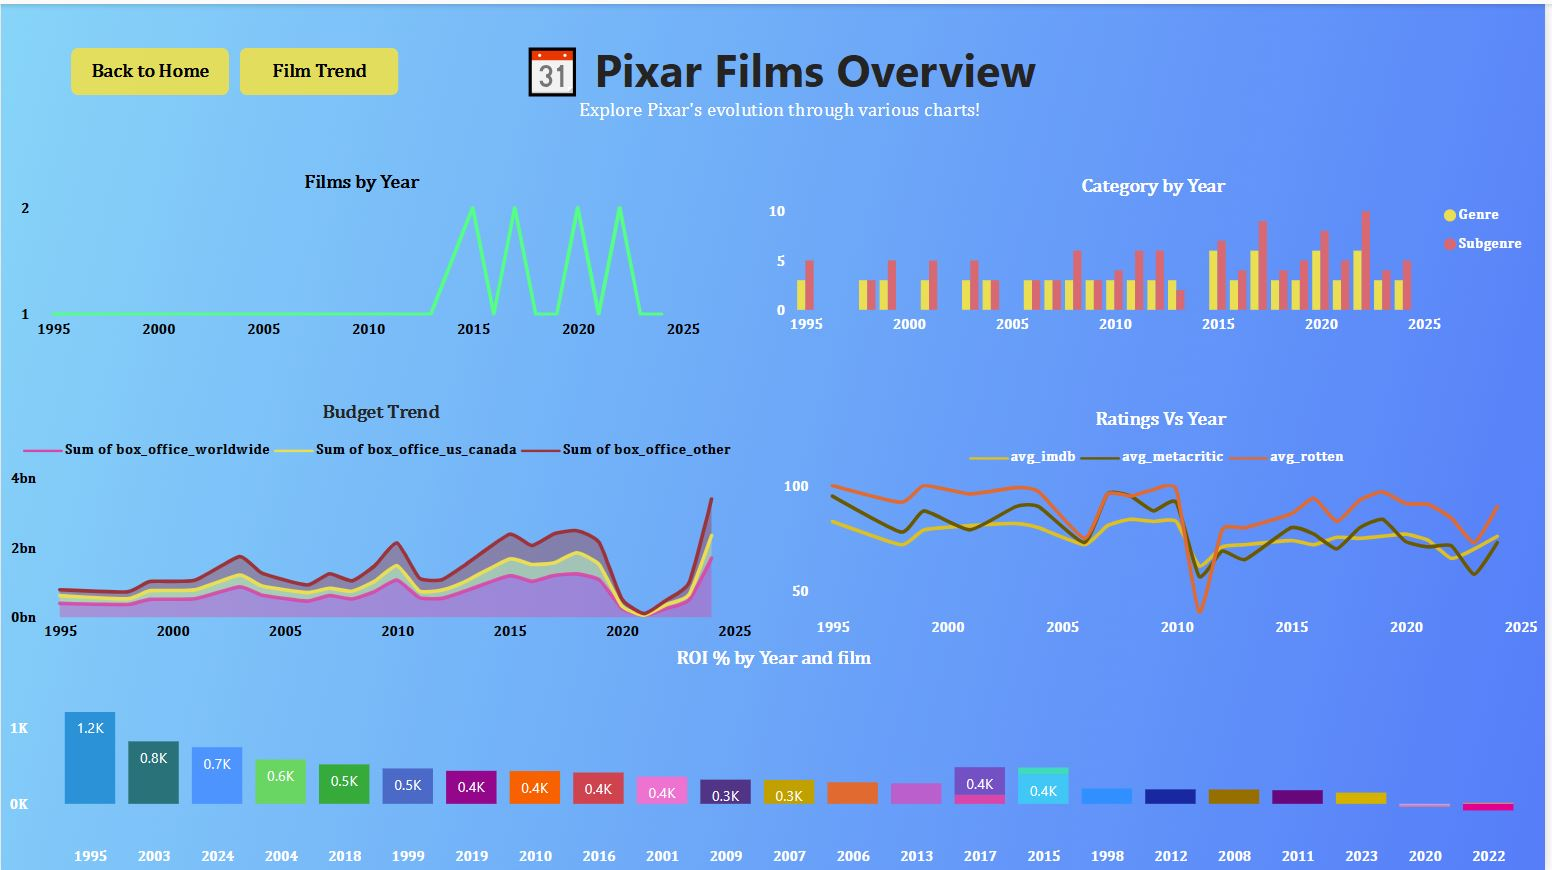

The dashboard page shown, as its layout file describes it:
{"tool":"powerbi","page":{"name":"Year Trend","canvas":[1280,720],"ordinal":1},"visuals":[{"type":"textbox","box":[10.2,23.7,1270.3,82.4],"z":0},{"type":"lineChart","title":"Films by Year","fields":{"Y":["Count(pixar_films.film)"],"Category":["pixar_films.Year"]},"box":[10.2,138.9,575.9,144.5],"z":1000},{"type":"clusteredColumnChart","title":"Category by Year","fields":{"Category":["pixar_films.Year"],"Y":["CountNonNull(genres.value)"],"Series":["genres.category"]},"box":[628.9,142.3,651.5,137.8],"z":2000},{"type":"stackedAreaChart","title":"Budget Trend","fields":{"Category":["pixar_films.Year"],"Y":["Sum(box_office.box_office_worldwide)","Sum(box_office.box_office_us_canada)","Sum(box_office.box_office_other)"]},"box":[0,329.7,628.9,204.4],"z":3000},{"type":"lineChart","title":"Ratings Vs Year","fields":{"Y":["public_response.avg_imdb","public_response.avg_metacritic","public_response.avg_rotten"],"Category":["pixar_films.Year"]},"box":[640.2,335.4,640.2,194.2],"z":4000},{"type":"columnChart","fields":{"Category":["pixar_films.Year"],"Y":["pixar_films.ROI %"],"Series":["pixar_films.film"]},"box":[0,534.1,1280.5,186.3],"z":5000},{"type":"actionButton","box":[57.6,36.1,131,39.5],"z":6000},{"type":"actionButton","box":[197.9,36.3,131.6,39.4],"z":7000}]}

Visuals, with their boxes in screenshot pixels (x1, y1, x2, y2), scaled from the page's 1280x720 canvas onto the 1552x870 screenshot:
textbox: detection(12, 29, 1551, 128)
"Films by Year" lineChart: detection(12, 168, 711, 342)
"Category by Year" clusteredColumnChart: detection(763, 172, 1551, 338)
"Budget Trend" stackedAreaChart: detection(0, 398, 763, 645)
"Ratings Vs Year" lineChart: detection(776, 405, 1551, 640)
columnChart - pixar_films.Year x pixar_films.ROI %: detection(0, 645, 1551, 869)
actionButton: detection(70, 44, 229, 91)
actionButton: detection(240, 44, 400, 91)
